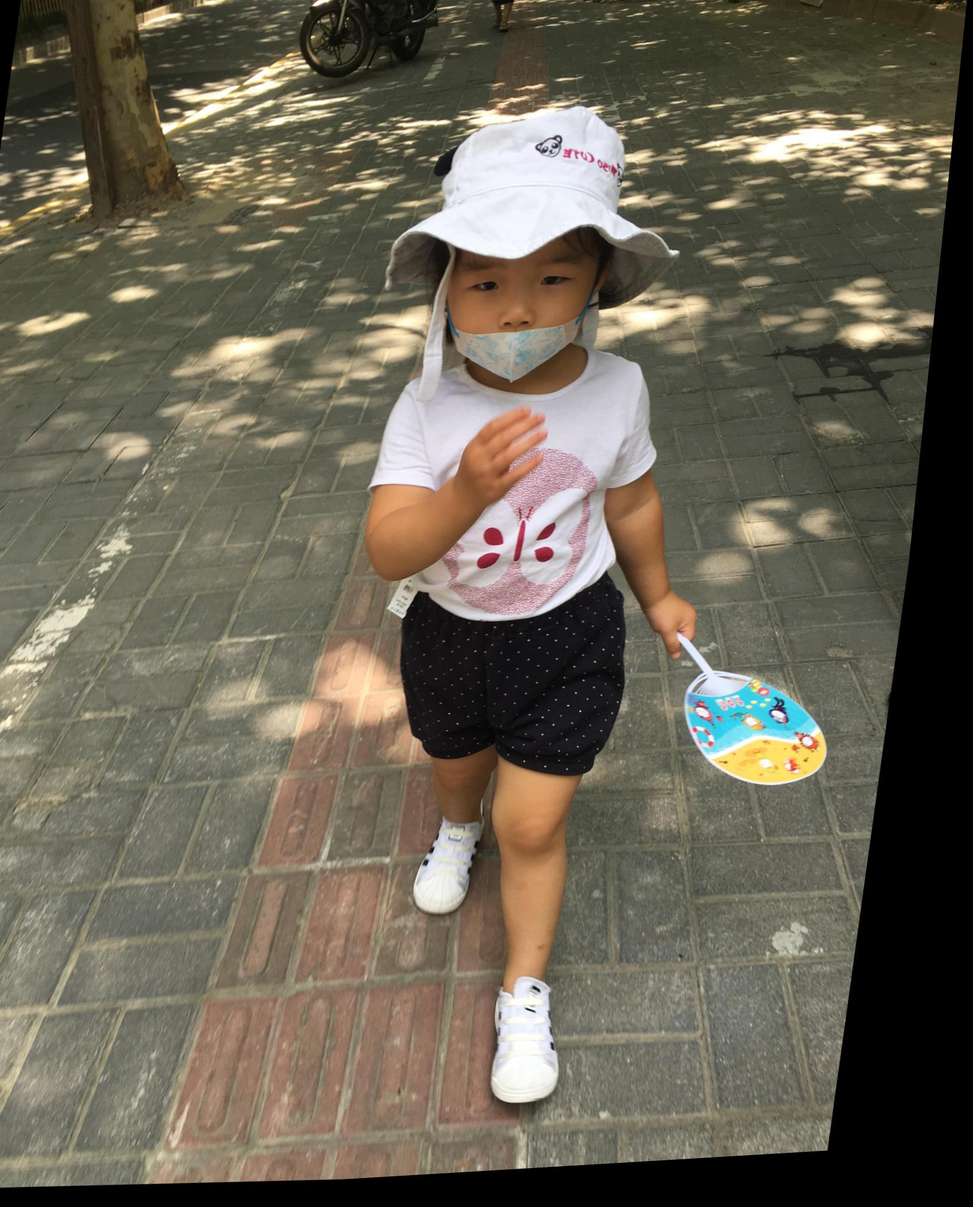WRONG: (448, 246, 603, 396)
